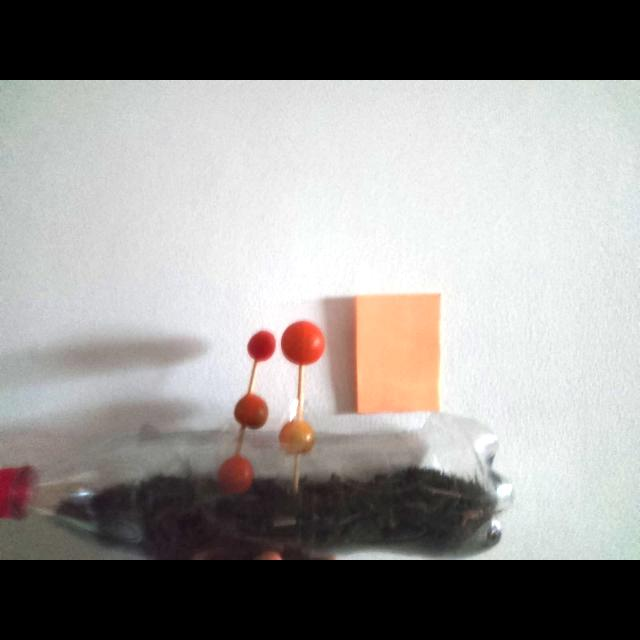fruit_maturation: (355, 294, 440, 413), (279, 420, 315, 455)
fully_grown: (280, 321, 325, 366), (248, 332, 275, 361)
